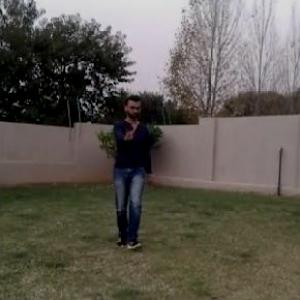takeoff-hand: (115, 121, 141, 147)
